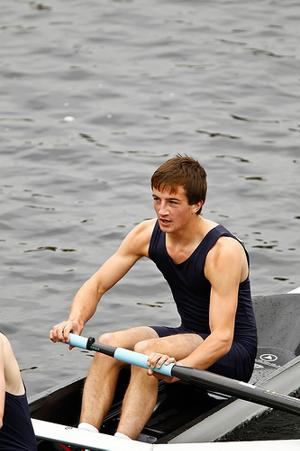person: (50, 155, 258, 440)
